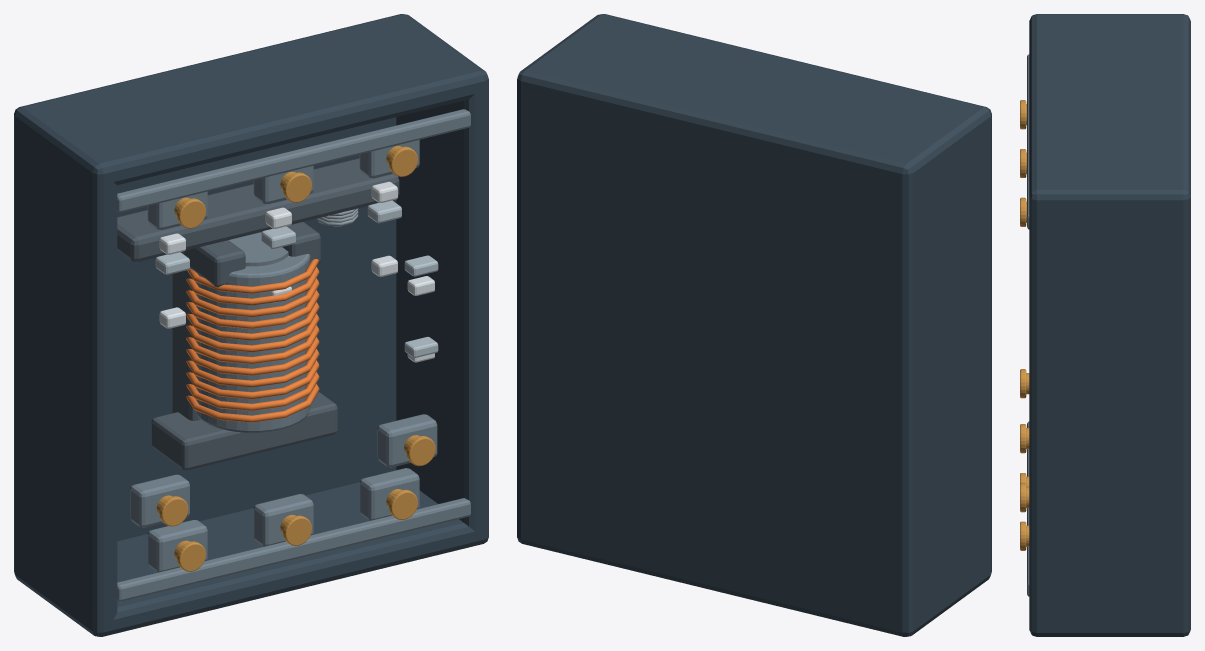
File: contactor-educational.glb
3 views of the same model, side by side, from view 1: azimuth 30°, elevation 25°; view 2: azimuth 150°, elevation 25°; view 3: azimuth 270°, elevation 25° (orthographic). The views are drawn at different scales.
Parts seen in each view (by area): view 1: housing, coil, magnetic_core_fixed, armature_moving, coil_former, coil_terminal_A2_mount, coil_terminal_A1_mount, power_terminal_T3_mount, power_terminal_T2_mount, power_terminal_T1_mount, coil_inner_clearance, power_terminal_L1_mount (+10 smaller); view 2: housing; view 3: housing.
Part boxes in pixels (x1,y1,x2,y2): housing: (14, 14, 488, 636); coil: (186, 259, 319, 422); magnetic_core_fixed: (151, 222, 337, 470); armature_moving: (117, 158, 399, 262); coil_former: (194, 254, 310, 432); coil_terminal_A2_mount: (377, 414, 437, 467); coil_terminal_A1_mount: (130, 474, 189, 527); power_terminal_T3_mount: (359, 468, 419, 520); power_terminal_T2_mount: (253, 494, 313, 546); power_terminal_T1_mount: (147, 520, 207, 572); coil_inner_clearance: (229, 232, 288, 266); power_terminal_L1_mount: (147, 191, 207, 229); housing: (517, 14, 991, 636); housing: (1027, 14, 1190, 636).
Size of the model in its own units: 5.6 by 6.4 by 2.22.
